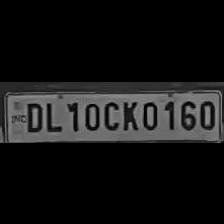0: (196, 96, 216, 130), (138, 97, 158, 130), (81, 98, 101, 130)
1: (63, 98, 81, 132), (160, 97, 176, 130)
6: (176, 96, 196, 130)
C: (100, 97, 119, 130)
D: (21, 98, 43, 132)
K: (118, 97, 138, 131)
L: (42, 98, 62, 132)
